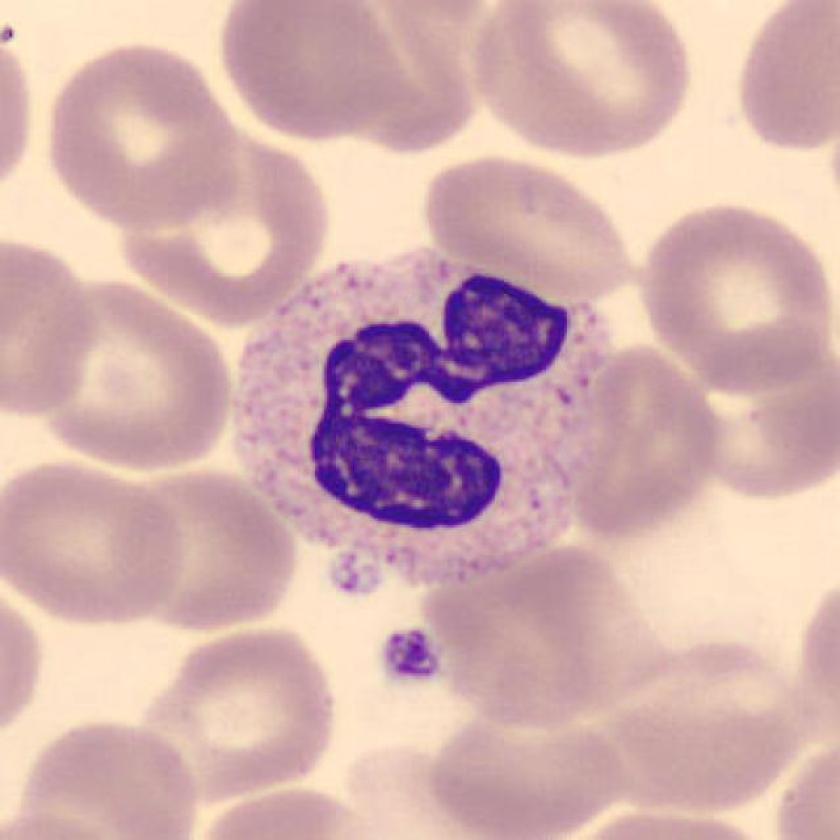neutrophil: (234, 252, 596, 585)
